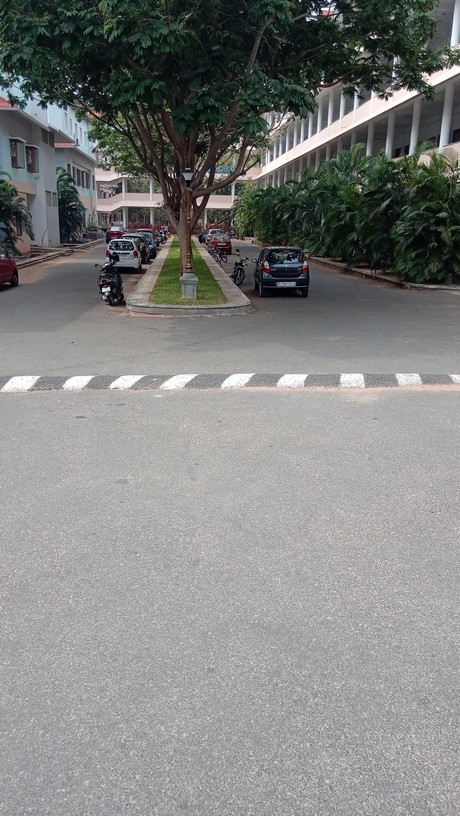bump: (1, 373, 460, 397)
